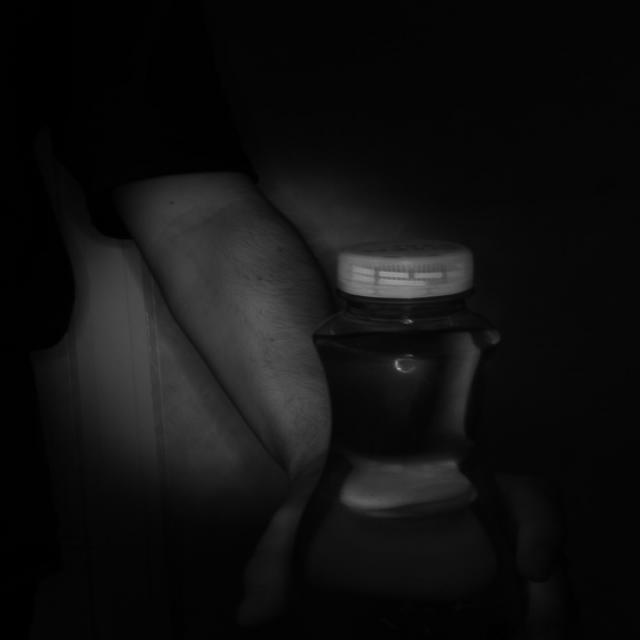Good: (333, 233, 479, 301)
